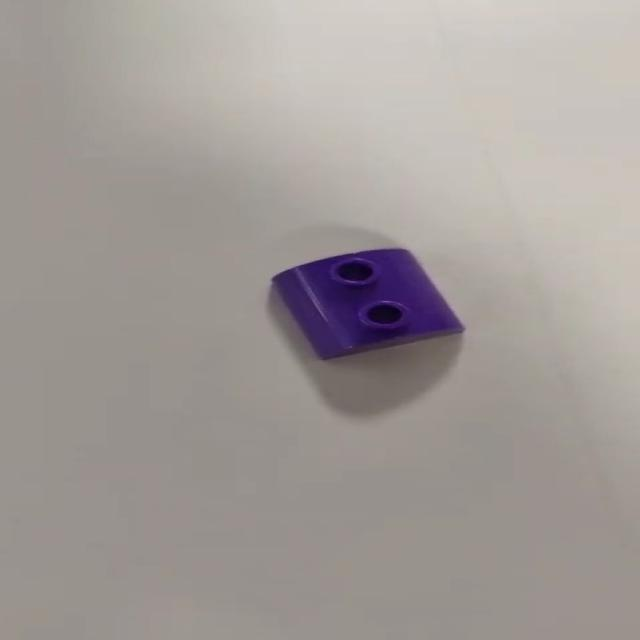H2x2x1: (272, 246, 465, 360)
